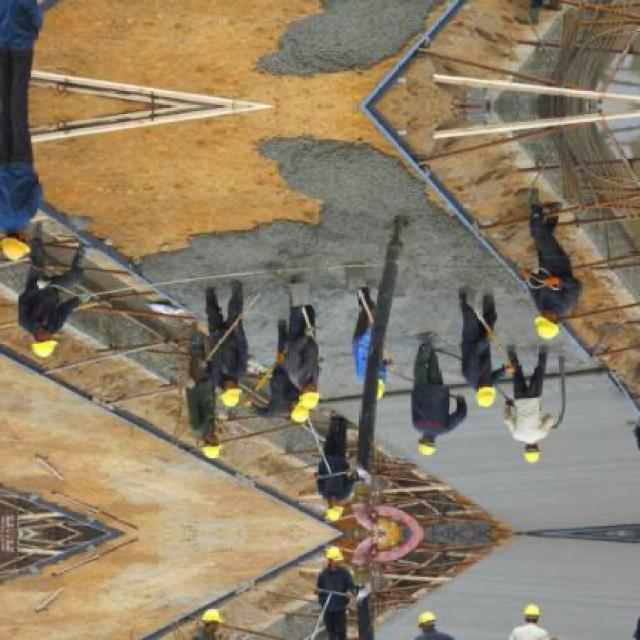con casco: (5, 316, 76, 377), (526, 302, 608, 352), (329, 352, 397, 406), (515, 421, 582, 464), (0, 235, 57, 283), (310, 509, 378, 541), (204, 375, 245, 425), (170, 434, 226, 468), (476, 375, 520, 414), (300, 367, 334, 414), (274, 393, 316, 429), (419, 433, 463, 460)
